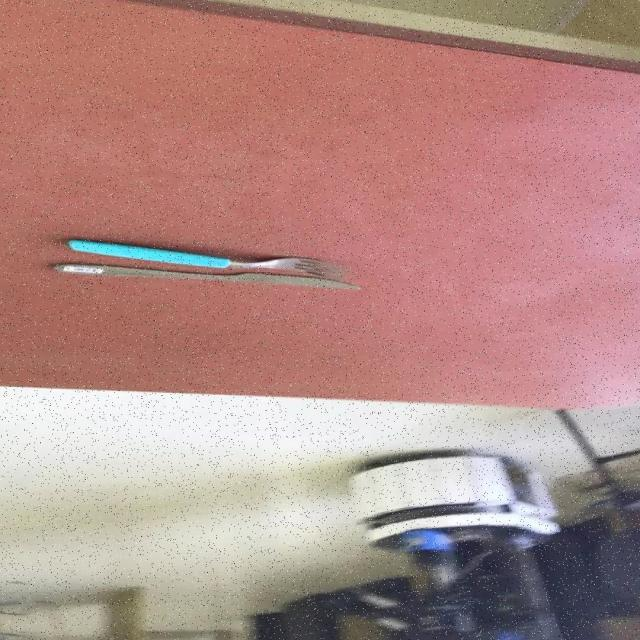Fork: (64, 237, 347, 279)
Knife: (52, 261, 360, 290)
